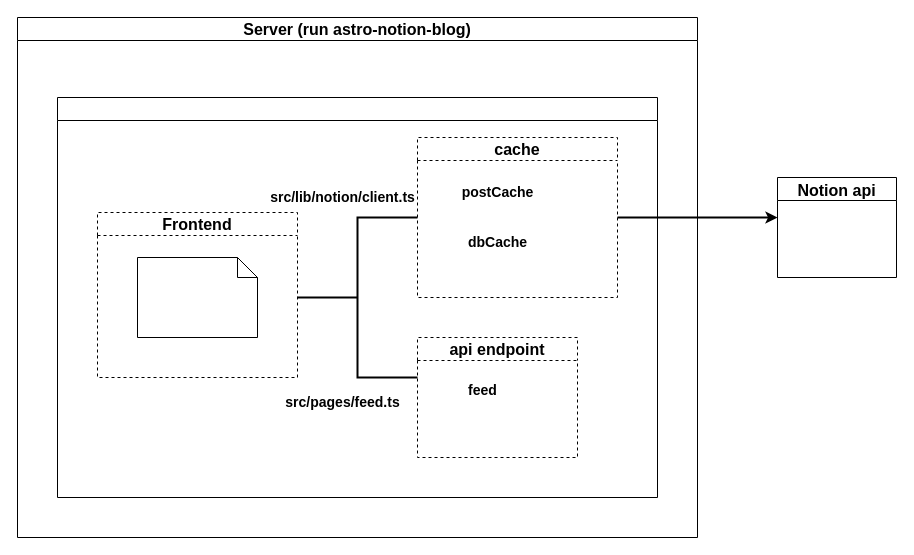
This 914x555 diagram has some shape labels left out. Each missing label, with the box of its shape:
astro: (56, 96, 658, 498)
components: (136, 256, 258, 338)
